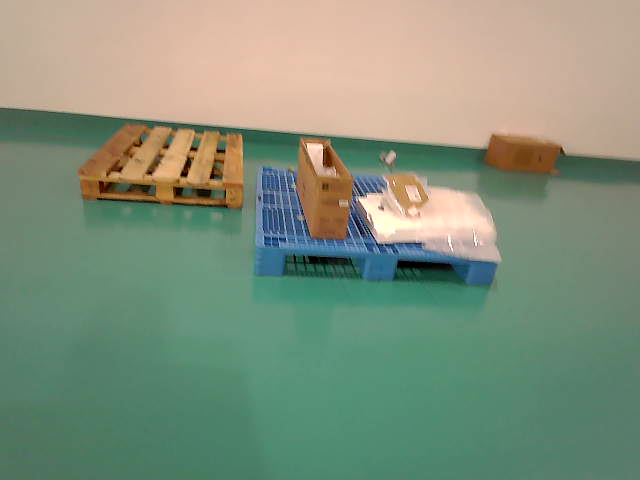block: (361, 249, 400, 282), (252, 244, 289, 278), (462, 262, 501, 292)
front: (252, 243, 508, 297)
hole pallet: (286, 250, 366, 278), (393, 261, 468, 285)
